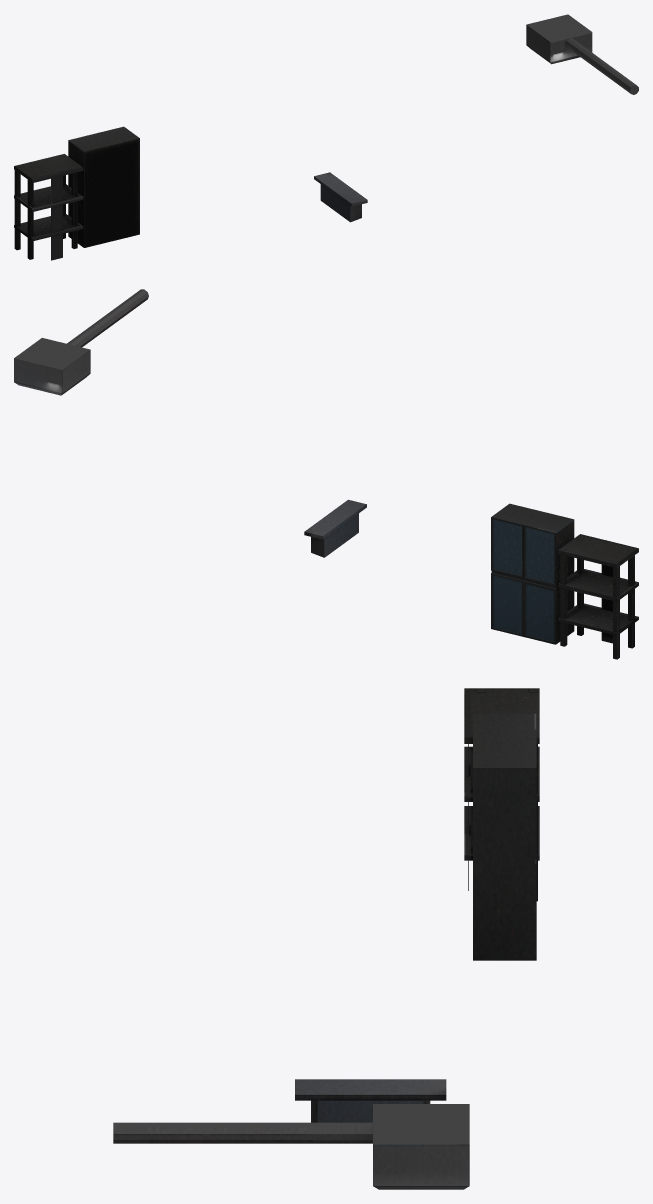
File: misc.glb
The picture shows the model from 3 angles, top to bottom: view 1: azimuth 30°, elevation 25°; view 2: azimuth 150°, elevation 25°; view 3: azimuth 270°, elevation 25°; orthographic projection. The views are drawn at different scales.
Visible parts, largest first — view 1: Cube.015; view 2: Cube.015; view 3: Cube.015.
Part boxes in pixels (left/top/right/bottom): Cube.015: left=14, top=14, right=638, bottom=260; Cube.015: left=14, top=289, right=638, bottom=659; Cube.015: left=113, top=688, right=539, bottom=1189.
Bounding box in the file's own units: 25.66 × 5.48 × 8.83.
1 material, 1 textured.
